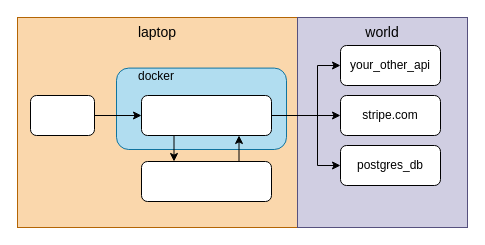
This 485x245 diagram has some shape labels left out. Here are the shapes that lost their labels. From the top down, the centre of each, then its label:
(x=62, y=115): curl
(x=206, y=115): speedscale_goproxy
(x=206, y=181): your_app
